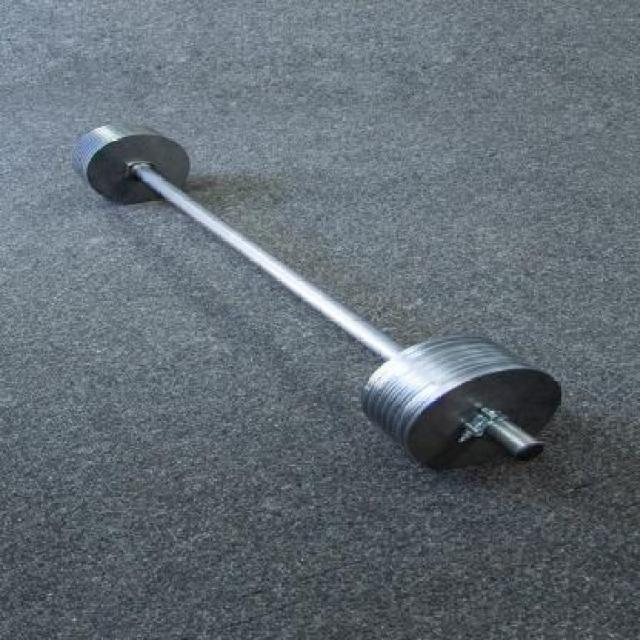Barbell: (498, 433, 558, 473)
